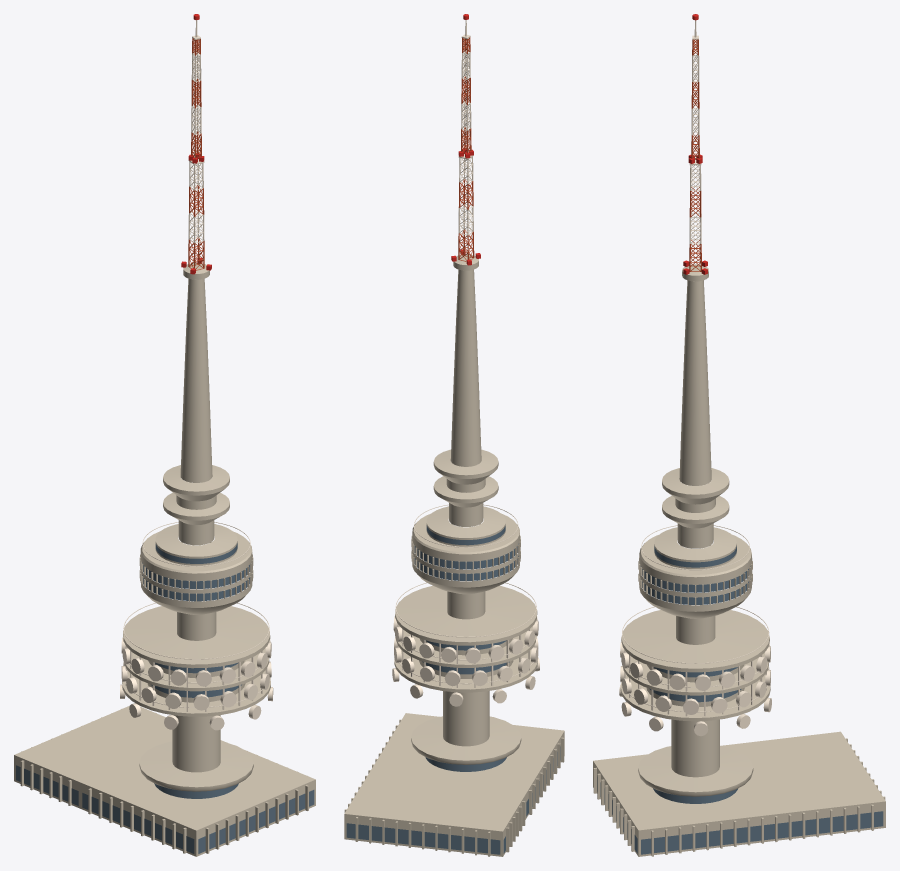
Rendered from canberra-telstra-tower.detail.glb.
3 renders of one model, left to right at view 1: azimuth 30°, elevation 25°; view 2: azimuth 150°, elevation 25°; view 3: azimuth 270°, elevation 25°, orthographic. The views are drawn at different scales.
Parts seen in each view (by area): view 1: Telstra Tower; view 2: Telstra Tower; view 3: Telstra Tower.
Boxes of the visible parts, x1,y1,x2,y2 form: Telstra Tower: [14, 14, 315, 856]; Telstra Tower: [344, 14, 564, 856]; Telstra Tower: [593, 14, 885, 856].
Size of the model in its own units: 52 by 196 by 65.1.
